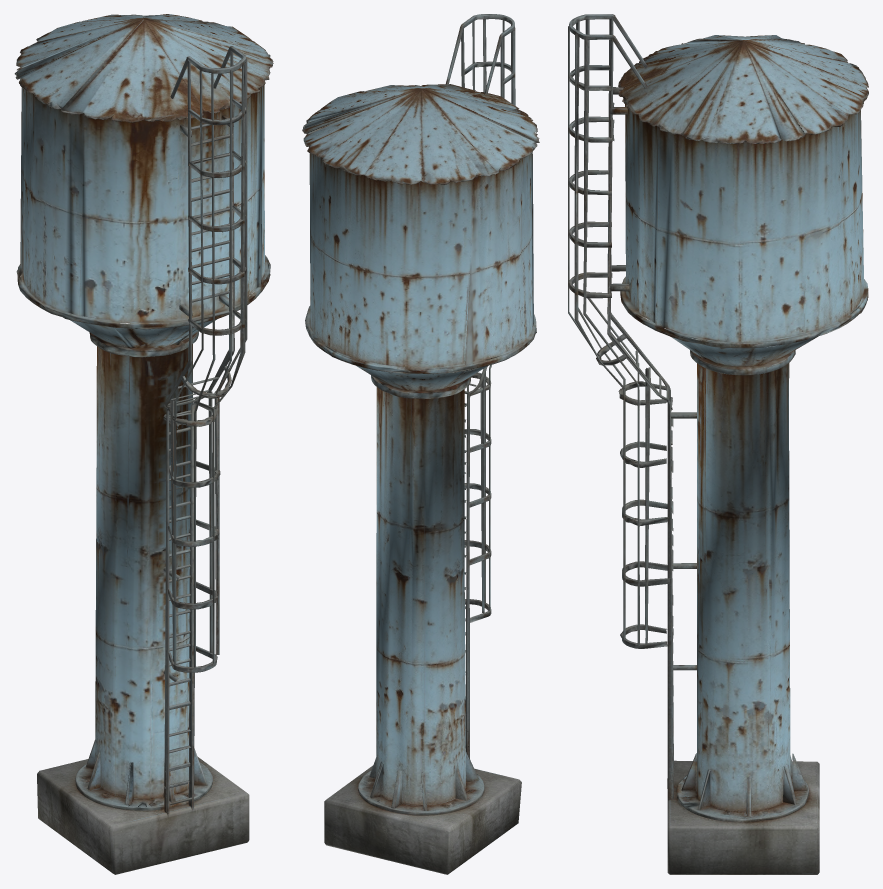
The model's file is wt_steel.glb.
3 renders of one model, left to right at view 1: azimuth 30°, elevation 25°; view 2: azimuth 150°, elevation 25°; view 3: azimuth 270°, elevation 25°, orthographic. The views are drawn at different scales.
Visible parts, largest first — view 1: wt_steel; view 2: wt_steel; view 3: wt_steel.
Boxes of the visible parts, x1,y1,x2,y2 form: wt_steel: [14, 14, 273, 874]; wt_steel: [302, 14, 539, 874]; wt_steel: [568, 14, 868, 874].
Bounding box in the file's own units: 26.66 × 95.12 × 31.69.
Materials: 1 (1 with a texture image).
